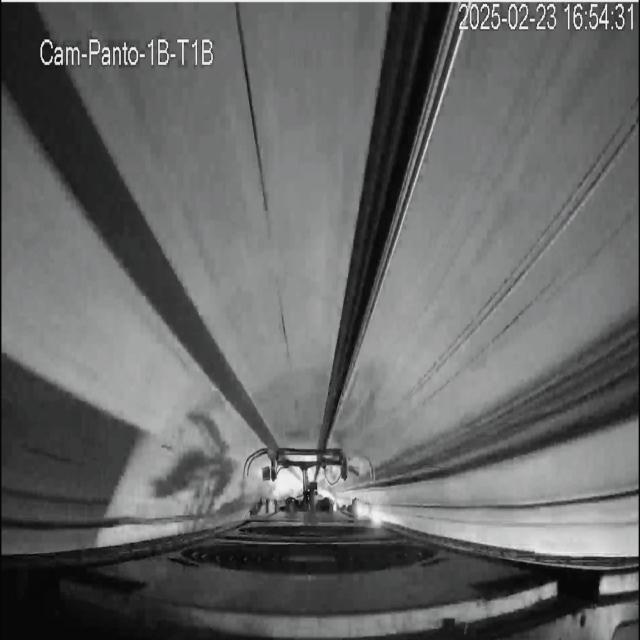Camera Stamp: (36, 30, 218, 69)
Date Stamp: (457, 3, 631, 33)
No - Spark: (224, 358, 367, 504)
